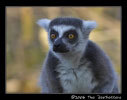cat: (4, 17, 126, 99)
